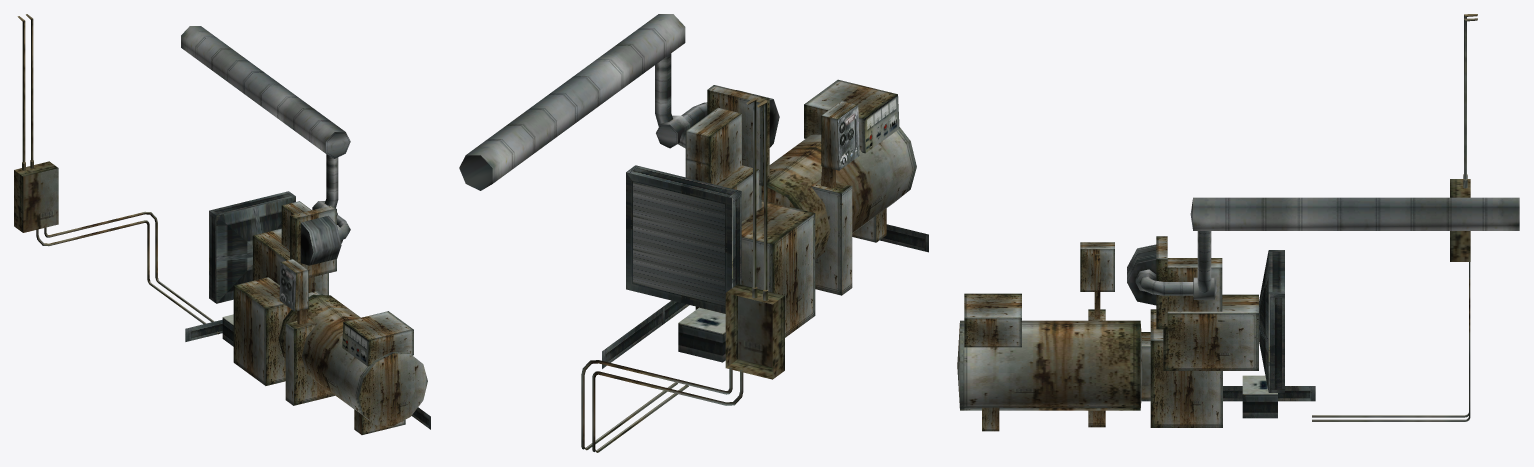
Rendered from Pwrgen.glb.
3 renders of one model, left to right at view 1: azimuth 30°, elevation 25°; view 2: azimuth 150°, elevation 25°; view 3: azimuth 270°, elevation 25°, orthographic. The views are drawn at different scales.
Visible parts, largest first — view 1: _Pwrgen; view 2: _Pwrgen; view 3: _Pwrgen.
Boxes of the visible parts, bbox=[...] form: _Pwrgen: bbox=[14, 14, 430, 434]; _Pwrgen: bbox=[459, 14, 928, 452]; _Pwrgen: bbox=[957, 14, 1519, 431].
Bounding box in the file's own units: 3.72 × 4.94 × 7.53.
3 materials, 3 textured.
